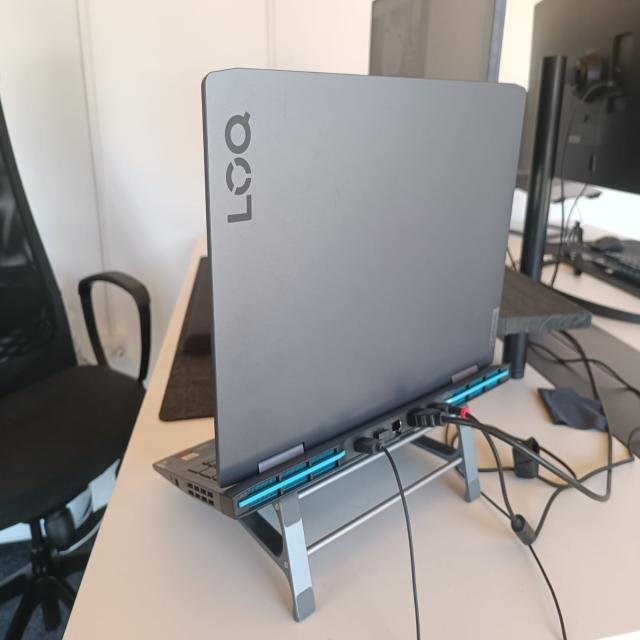Laptops_bbox: (106, 40, 582, 637)
